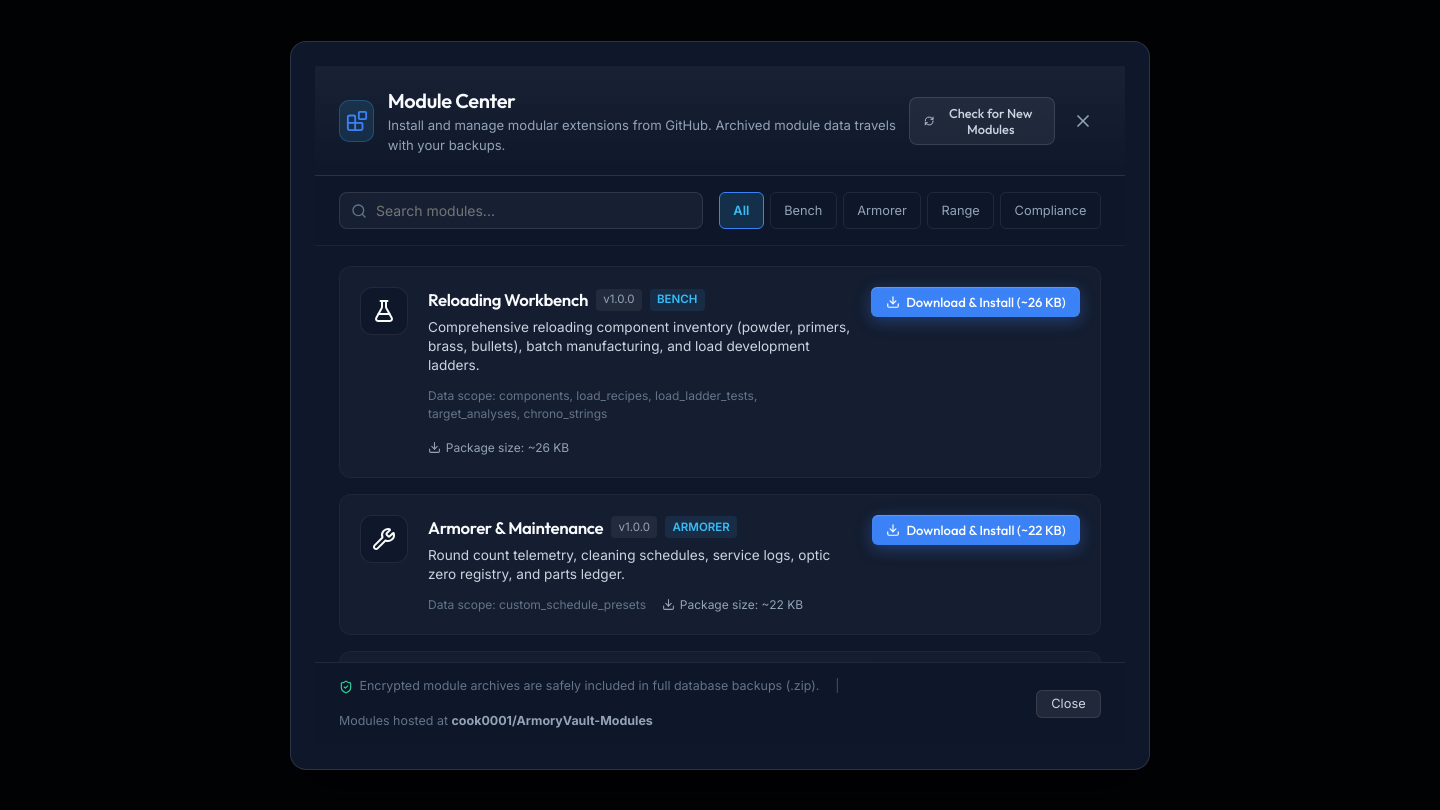
Test: ModuleCenterModal & ModulePromptView Component › checks GitHub for remote modules and updates catalog metadata
Click the button "Check for New Modules".
click(982, 120)  # box [909,96,1055,144]
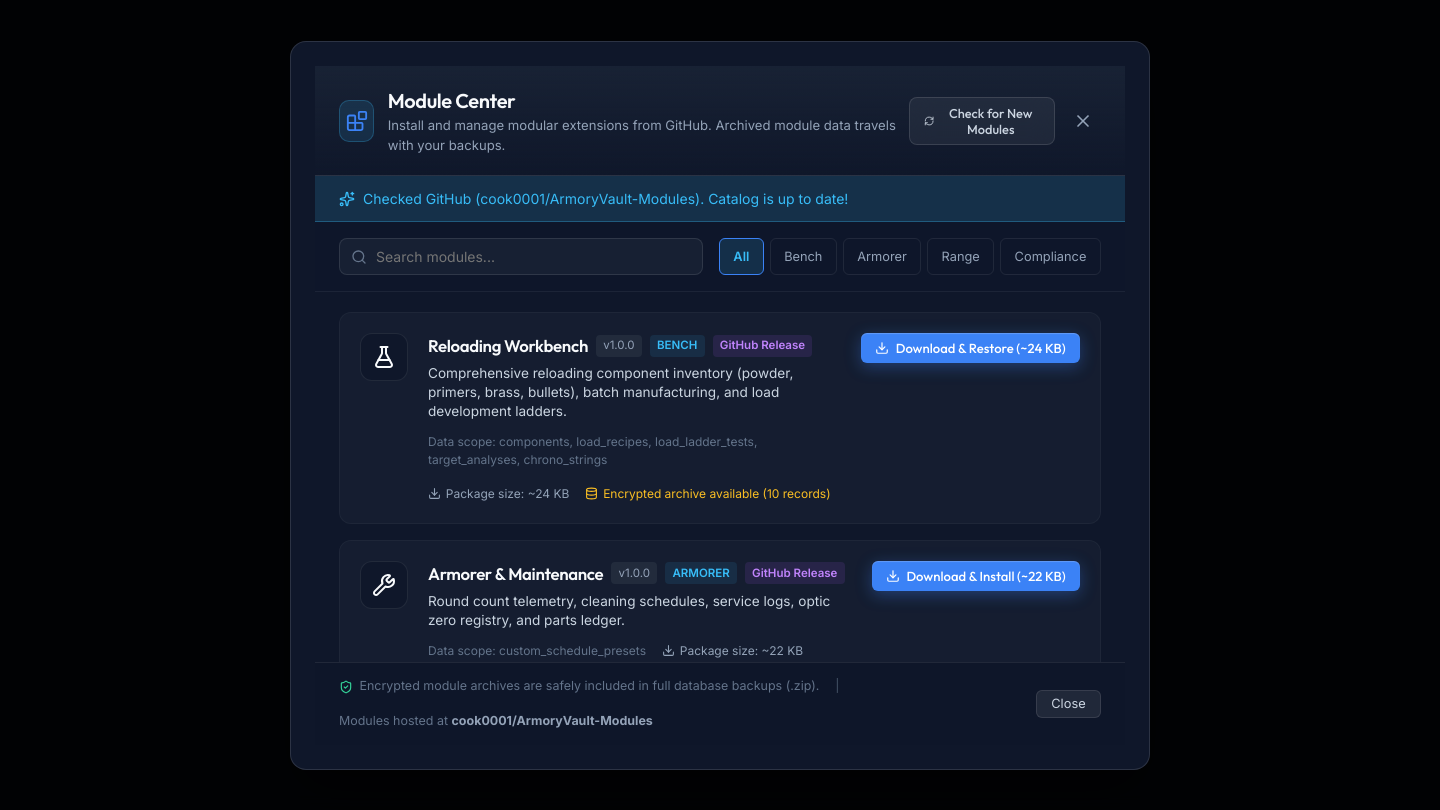
expect the text "Checked GitHub (cook0001/ArmoryVault-Modules). Catalog is up to date!" is shown: met, box [363,188,848,209]
expect the text "GitHub Release" in the row of "Reloading Workbench" is shown: met, box [720,337,805,351]
